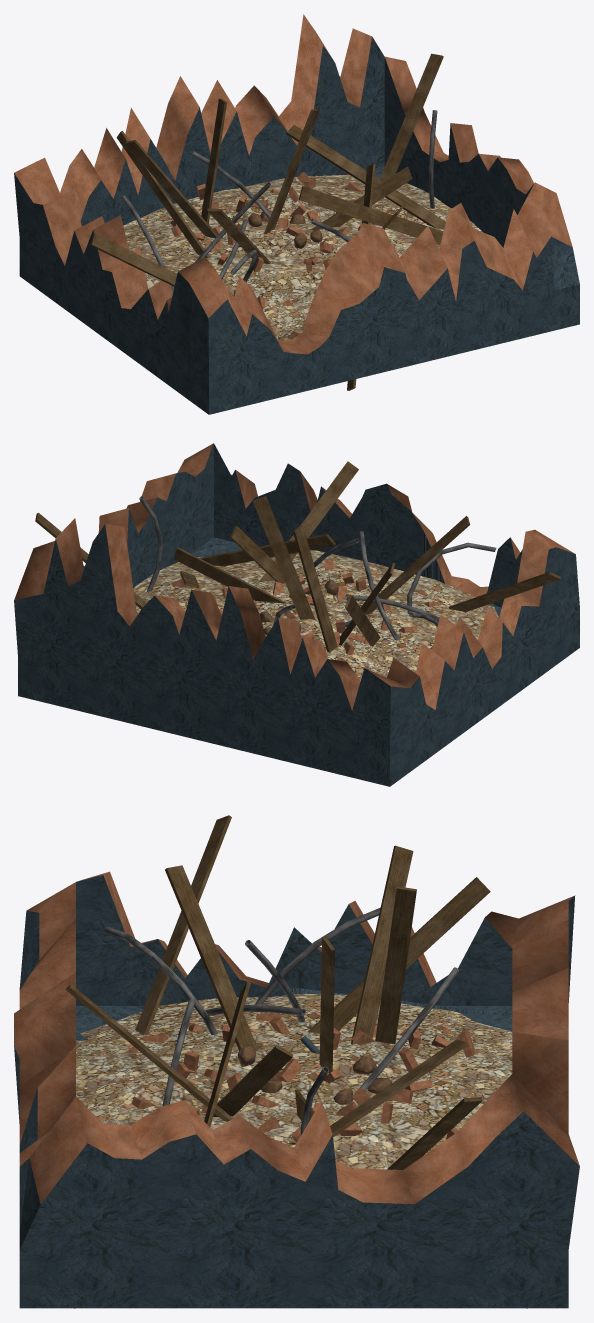
Rendered from CollapsedHouse2.FBX.
The picture shows the model from 3 angles, top to bottom: view 1: azimuth 30°, elevation 25°; view 2: azimuth 150°, elevation 25°; view 3: azimuth 270°, elevation 25°; orthographic projection. The views are drawn at different scales.
Parts seen in each view (by area): view 1: Box001, Plane001, Box048, Box054, Box058, Box056, Box049, Box051, Box050, Box047, Box052, Box053 (+1 smaller); view 2: Box001, Plane001, Box050, Box047, Box055, Box052, Box053, Box051, Box048, Box057, Box049, Tube004 (+4 smaller); view 3: Box001, Plane001, Box056, Box053, Box047, Box049, Box051, Box054, Box057, Box050, Box055, Box058 (+6 smaller).
Boxes of the visible parts, x1,y1,x2,y2 form: Box001: (14, 14, 579, 414); Plane001: (123, 174, 482, 340); Box048: (299, 186, 443, 244); Box054: (286, 125, 445, 229); Box058: (380, 53, 443, 181); Box056: (125, 140, 217, 238); Box049: (116, 131, 210, 258); Box051: (90, 233, 177, 286); Box050: (264, 109, 319, 234); Box047: (199, 98, 226, 230); Box052: (311, 167, 412, 230); Box053: (207, 208, 270, 264); Box001: (14, 443, 579, 786); Plane001: (133, 550, 498, 681); Box050: (253, 496, 314, 619); Box047: (293, 525, 337, 652); Box055: (258, 461, 358, 582); Box052: (174, 547, 285, 603); Box053: (365, 516, 470, 614); Box051: (448, 572, 560, 612); Box048: (199, 534, 335, 566); Box057: (230, 526, 285, 583); Box049: (344, 594, 380, 646); Tube004: (407, 542, 496, 614); Box001: (14, 871, 579, 1308); Plane001: (74, 994, 527, 1308); Box056: (351, 845, 413, 1044); Box053: (165, 865, 258, 1051); Box047: (375, 886, 416, 1044); Box049: (308, 877, 490, 1032); Box051: (135, 815, 231, 1035); Box054: (330, 1039, 467, 1137); Box057: (205, 1045, 293, 1116); Box050: (319, 936, 334, 1073); Box055: (65, 984, 232, 1121); Box058: (387, 1097, 482, 1169).
Bounding box in the file's own units: 792 × 408 × 612.
Materials: 6 (6 with a texture image).
